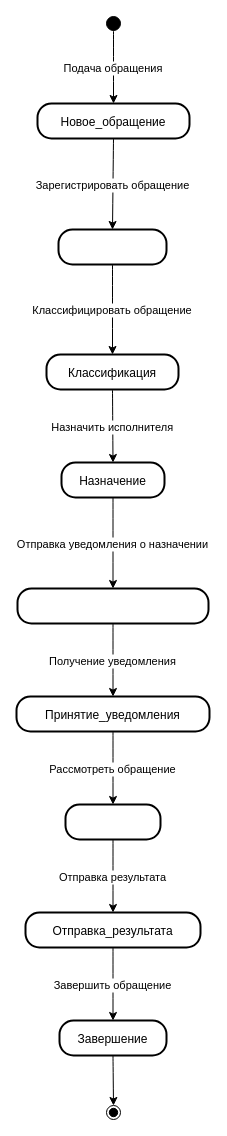
This 227x1136 diagram has some shape labels left out. The shapes that lost their labels are listed below. From the top down, each one's centre as x and y in pixels, then its label:
At (112,246): "Регистрация".
At (112,605): "Отправка_уведомления".
At (112,821): "Обработка".
